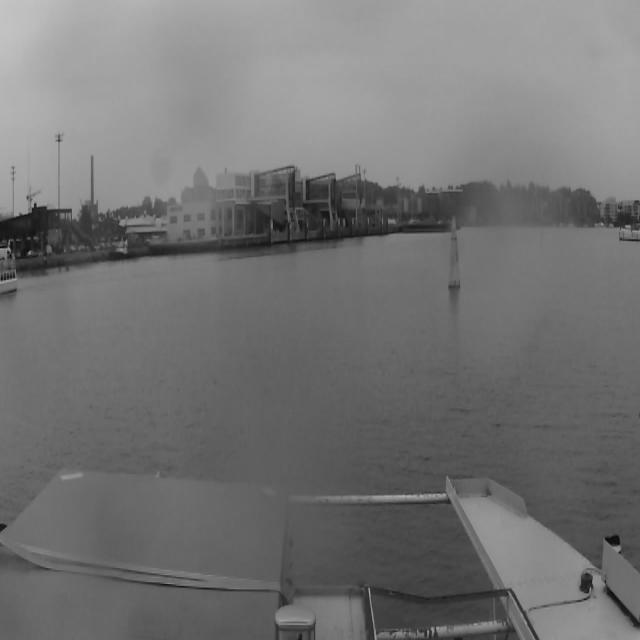buoy: (445, 218, 461, 289)
ship: (0, 236, 20, 298)
